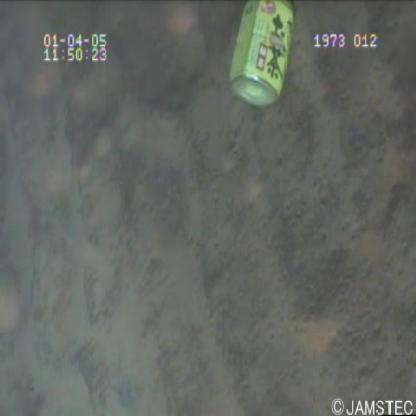Rác: (226, 1, 307, 128)
